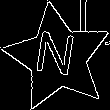N_S: (34, 29, 82, 86)
